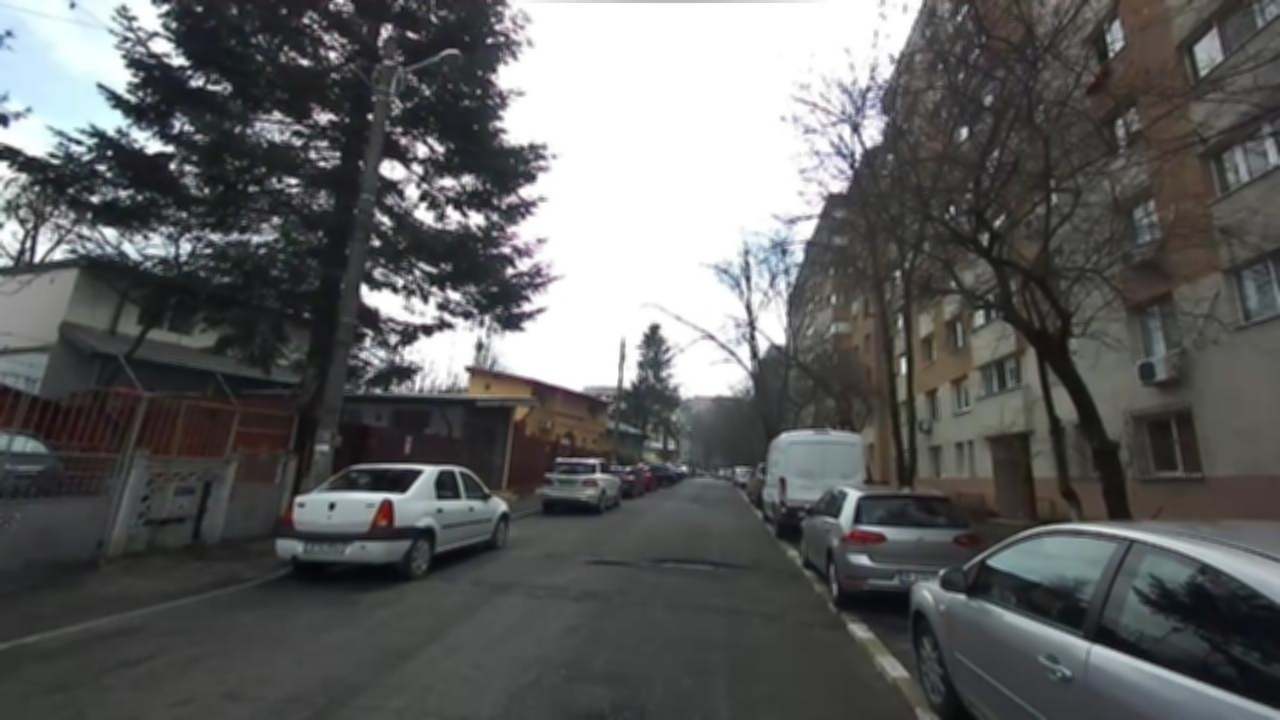pothole: (660, 558, 741, 570), (586, 560, 634, 566)
